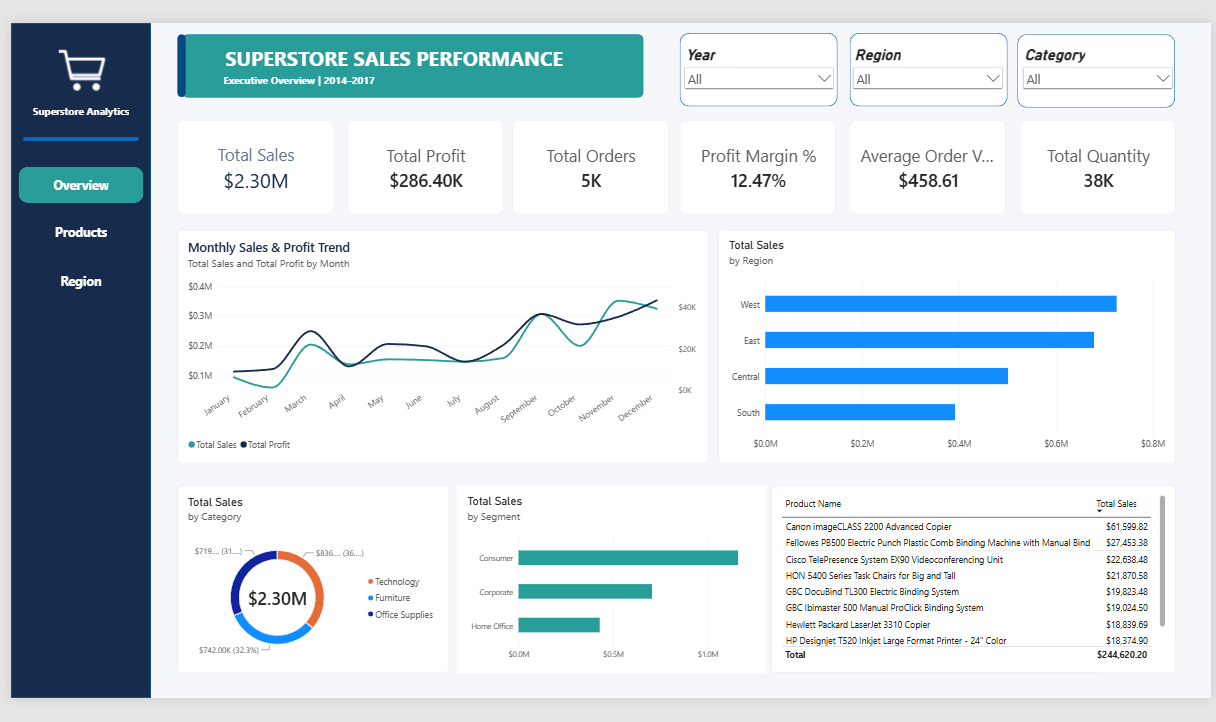

Layout of this report page (visuals, bound fields, positions):
{"tool":"powerbi","page":{"name":"Overview","canvas":[1920,1080],"ordinal":0},"visuals":[{"type":"shape","box":[273.3,18.7,738,101.3],"z":0},{"type":"shape","box":[1341.7,15,252.5,117.5],"z":1000},{"type":"shape","box":[1610,18.3,252.5,117.5],"z":2000},{"type":"shape","box":[1070,15,252.5,117.5],"z":3000},{"type":"textbox","box":[266,16,694,82],"z":4000},{"type":"textbox","box":[280,80,362,40],"z":5000},{"type":"cardVisual","fields":{"Data":["FactSales.Total Orders"]},"box":[802,155,250,150],"z":6000},{"type":"cardVisual","fields":{"Data":["FactSales.Total Profit"]},"box":[538,155,250,150],"z":7000},{"type":"cardVisual","fields":{"Data":["FactSales.Average Order Value"]},"box":[1342,155,250,150],"z":8000},{"type":"cardVisual","fields":{"Data":["FactSales.Profit Margin %"]},"box":[1070,155,250,150],"z":9000},{"type":"cardVisual","fields":{"Data":["FactSales.Total Quantity"]},"box":[1614,155,250,150],"z":10000},{"type":"lineChart","title":"Monthly Sales & Profit Trend","fields":{"Category":["DimDate.Date.Variation.Date Hierarchy.Year","DimDate.Date.Variation.Date Hierarchy.Quarter","DimDate.Date.Variation.Date Hierarchy.Month","DimDate.Date.Variation.Date Hierarchy.Day"],"Y":["FactSales.Total Sales"],"Y2":["FactSales.Total Profit"]},"box":[266.2,330,850,376.2],"z":11000},{"type":"clusteredBarChart","fields":{"Category":["DimGeography.Region"],"Y":["FactSales.Total Sales"]},"box":[1132,330,732,376],"z":12000},{"type":"shape","box":[0,0,224,1080],"z":13000},{"type":"shape","box":[266,18.7,14,100.7],"z":14000},{"type":"donutChart","fields":{"Category":["FactSales.Category"],"Y":["FactSales.Total Sales"]},"box":[266.7,740,435.6,300],"z":15000},{"type":"clusteredBarChart","fields":{"Category":["DimCustomer.Segment"],"Y":["FactSales.Total Sales"]},"box":[713.3,740,494,300],"z":16000},{"type":"tableEx","fields":{"Values":["DimProduct.Product Name","FactSales.Total Sales"]},"box":[1216,740,648,300],"z":17000},{"type":"slicer","fields":{"Values":["DimDate.Year"]},"box":[1072,35,250,82],"z":18000},{"type":"slicer","fields":{"Values":["DimGeography.Region"]},"box":[1342,35,250,84],"z":19000},{"type":"slicer","fields":{"Values":["DimProduct.Category"]},"box":[1614,35,250,84],"z":20000},{"type":"cardVisual","fields":{"Data":["FactSales.Total Sales"]},"box":[266,156,250,150],"z":21000},{"type":"actionButton","box":[12,0,200,200],"z":22000},{"type":"shape","box":[20,171.7,184.3,27.1],"z":23000},{"type":"actionButton","box":[12,230,200,58],"z":24000},{"type":"actionButton","box":[12,306,200,58],"z":24001},{"type":"actionButton","box":[12,384,200,58],"z":24002}]}

Visuals, with their boxes on the page's 1920x1080 design canvas (x1, y1, x2, y2). These are canvas units, not pixel positions in the 1216x722 screenshot, which may show the page scaled, cropped or inside an application window:
shape: (left=273, top=19, right=1011, bottom=120)
shape: (left=1342, top=15, right=1594, bottom=132)
shape: (left=1610, top=18, right=1862, bottom=136)
shape: (left=1070, top=15, right=1322, bottom=132)
textbox: (left=266, top=16, right=960, bottom=98)
textbox: (left=280, top=80, right=642, bottom=120)
cardVisual - FactSales.Total Orders: (left=802, top=155, right=1052, bottom=305)
cardVisual - FactSales.Total Profit: (left=538, top=155, right=788, bottom=305)
cardVisual - FactSales.Average Order Value: (left=1342, top=155, right=1592, bottom=305)
cardVisual - FactSales.Profit Margin %: (left=1070, top=155, right=1320, bottom=305)
cardVisual - FactSales.Total Quantity: (left=1614, top=155, right=1864, bottom=305)
"Monthly Sales & Profit Trend" lineChart: (left=266, top=330, right=1116, bottom=706)
clusteredBarChart - DimGeography.Region x FactSales.Total Sales: (left=1132, top=330, right=1864, bottom=706)
shape: (left=0, top=0, right=224, bottom=1080)
shape: (left=266, top=19, right=280, bottom=119)
donutChart - FactSales.Category x FactSales.Total Sales: (left=267, top=740, right=702, bottom=1040)
clusteredBarChart - DimCustomer.Segment x FactSales.Total Sales: (left=713, top=740, right=1207, bottom=1040)
tableEx - DimProduct.Product Name x FactSales.Total Sales: (left=1216, top=740, right=1864, bottom=1040)
slicer - DimDate.Year: (left=1072, top=35, right=1322, bottom=117)
slicer - DimGeography.Region: (left=1342, top=35, right=1592, bottom=119)
slicer - DimProduct.Category: (left=1614, top=35, right=1864, bottom=119)
cardVisual - FactSales.Total Sales: (left=266, top=156, right=516, bottom=306)
actionButton: (left=12, top=0, right=212, bottom=200)
shape: (left=20, top=172, right=204, bottom=199)
actionButton: (left=12, top=230, right=212, bottom=288)
actionButton: (left=12, top=306, right=212, bottom=364)
actionButton: (left=12, top=384, right=212, bottom=442)
